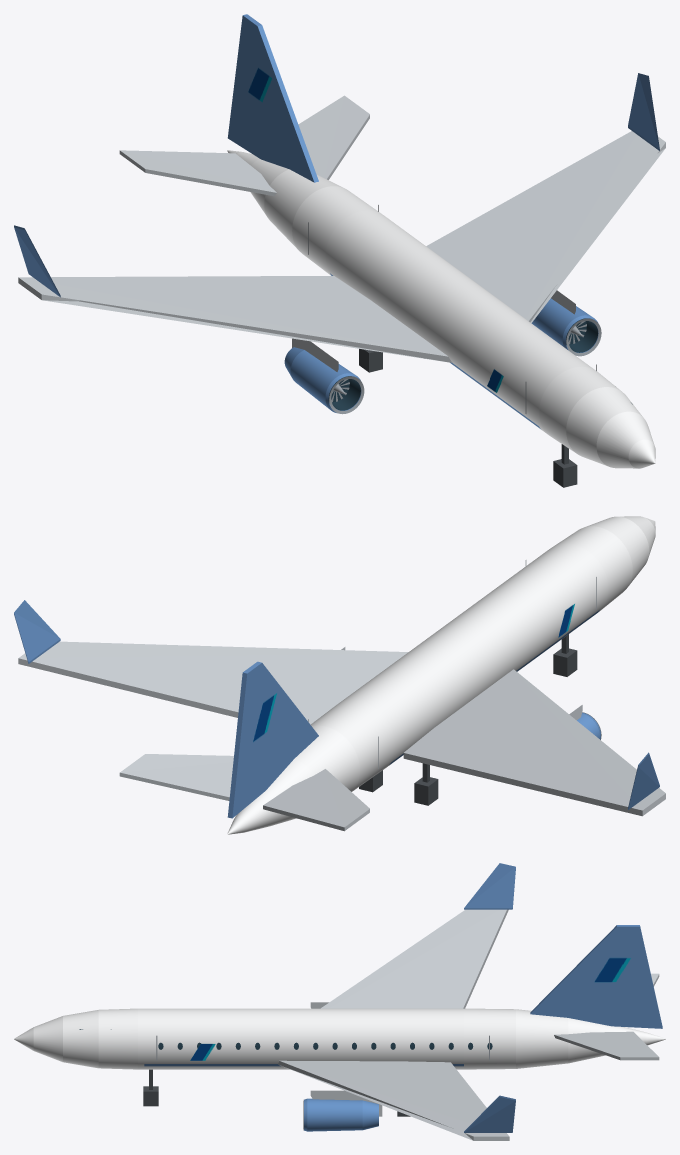
The model's file is regional-ANA-v3.gltf.
3 views of the same model, one above another, from view 1: azimuth 30°, elevation 25°; view 2: azimuth 150°, elevation 25°; view 3: azimuth 270°, elevation 25° (orthographic). The views are drawn at different scales.
Parts seen in each view (by area): view 1: object 1, Gear; view 2: object 1, Gear; view 3: object 1, Gear.
Part boxes in pixels (x1=…): object 1: x1=14, y1=14, x2=665, y2=468; Gear: x1=359, y1=349, x2=577, y2=487; object 1: x1=14, y1=516, x2=665, y2=834; Gear: x1=359, y1=634, x2=577, y2=805; object 1: x1=14, y1=863, x2=665, y2=1140; Gear: x1=143, y1=1069, x2=410, y2=1116.
Bounding box in the file's own units: 27 × 9.64 × 32.
8 materials, 1 textured.
